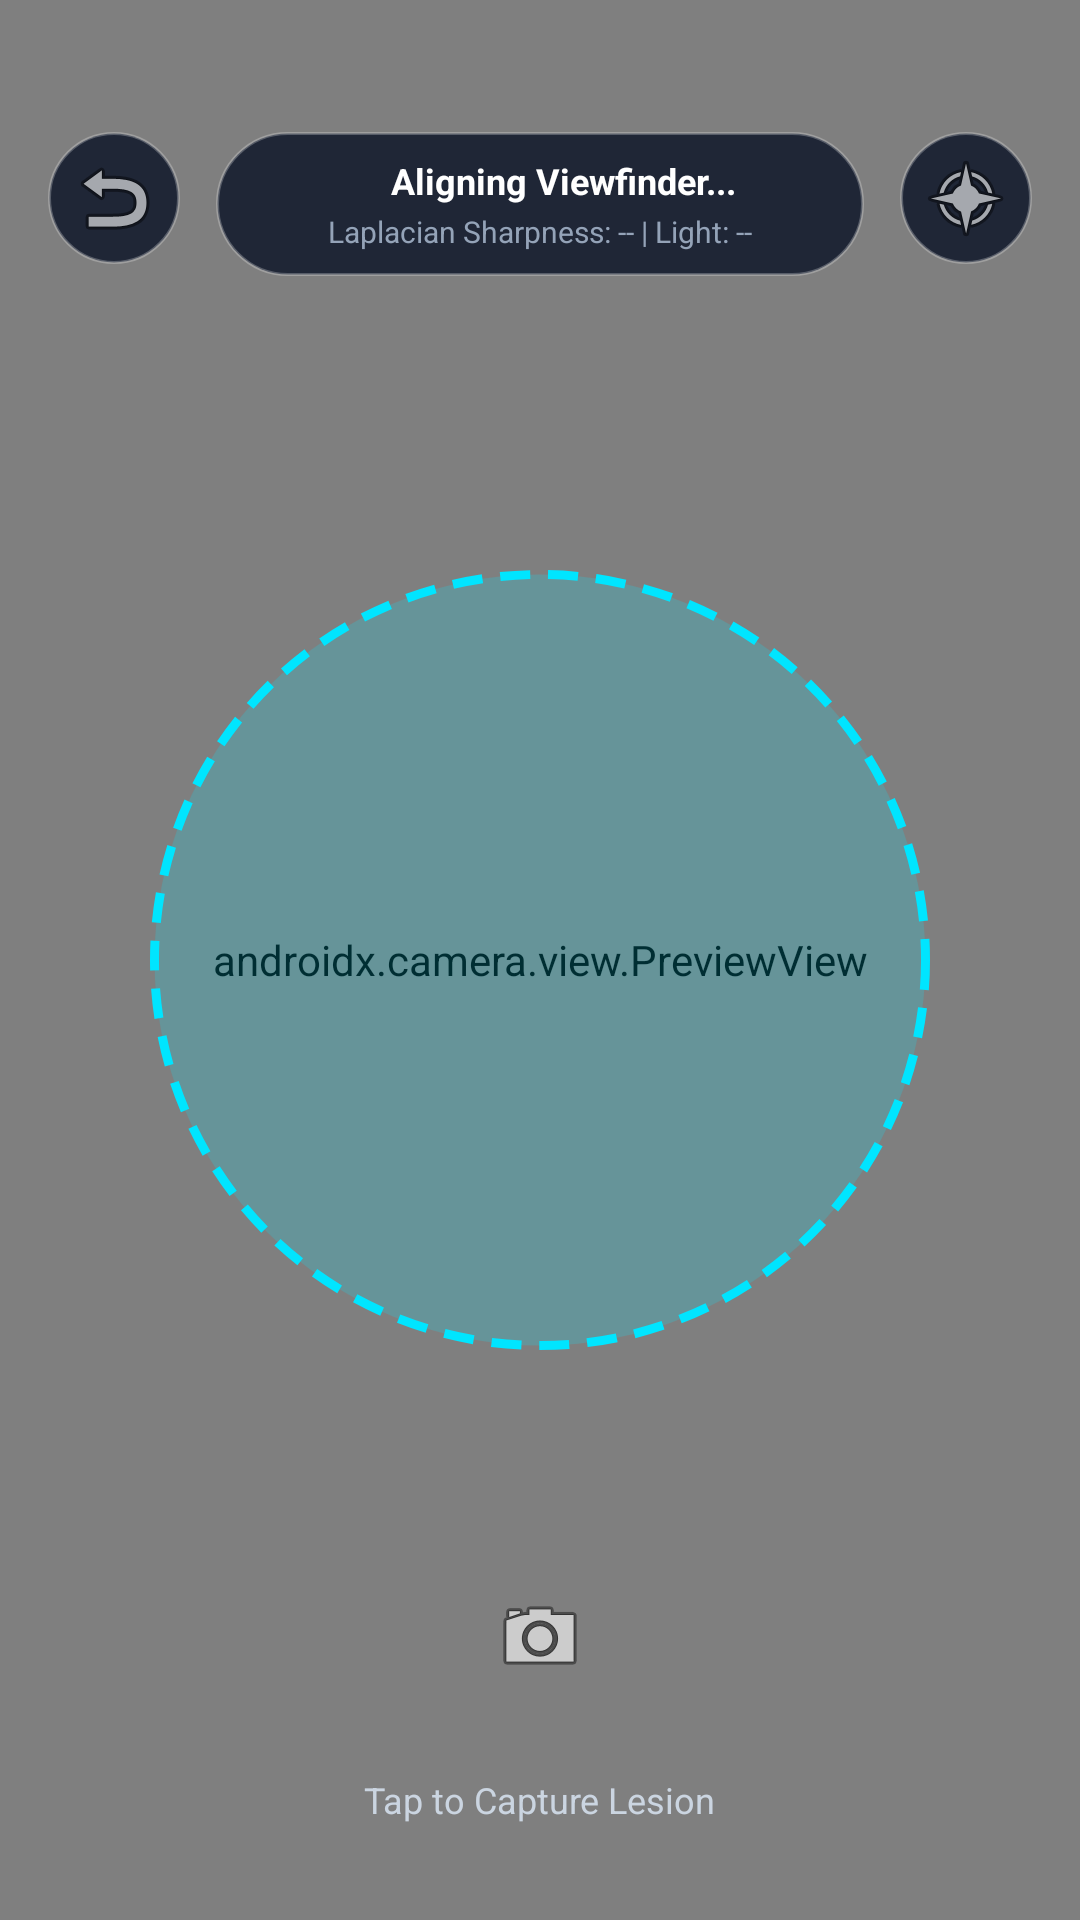

Locate icon controls on the screen. Image size 1080px×1920px, boxes as (x1, y1, x2, y2).
Capture Scan: (503, 1606, 577, 1665)
Exit Camera: (48, 132, 180, 264)
